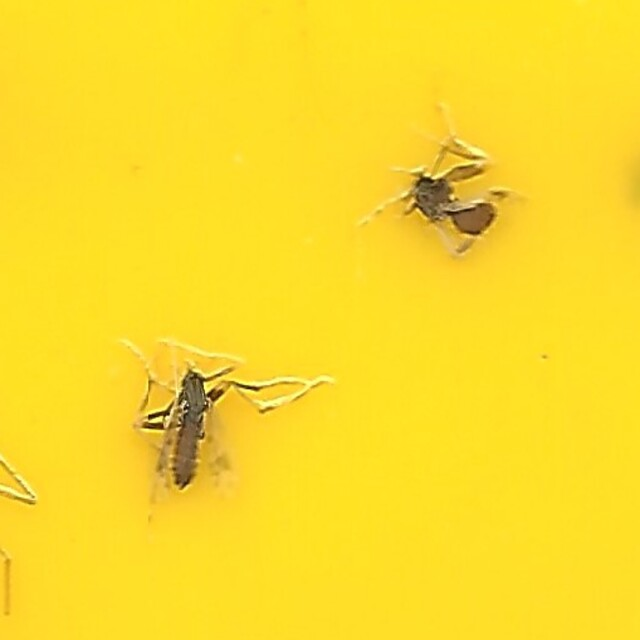Nematocera: (126, 350, 316, 500), (400, 140, 514, 252)
